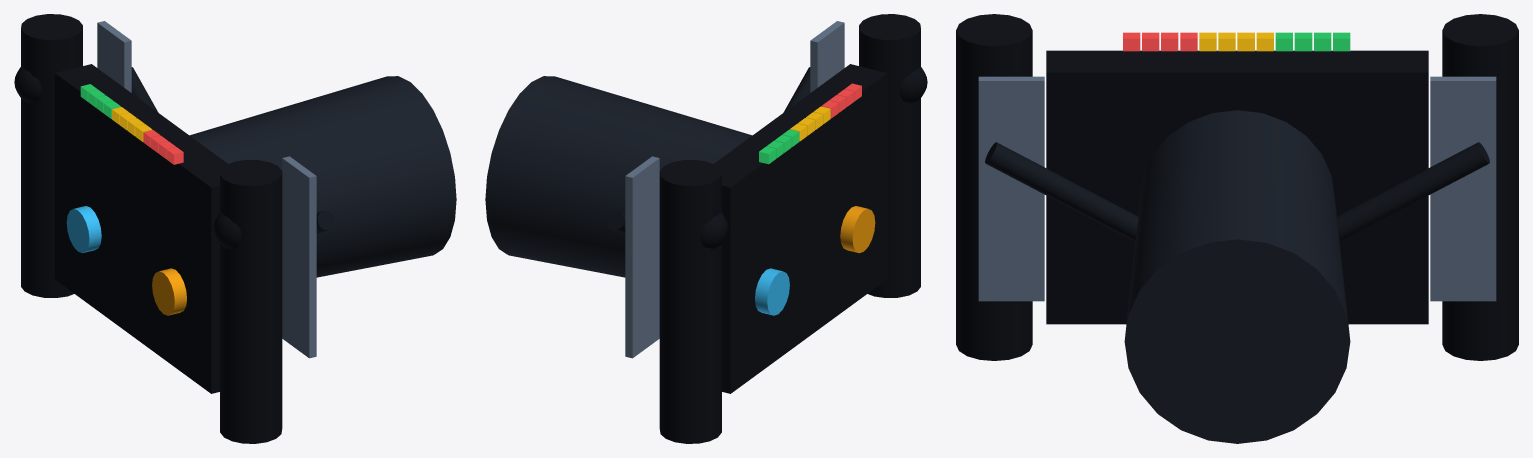
The model's file is steering_wheel_gt3_yoke.glb.
3 views of the same model, side by side, from view 1: azimuth 30°, elevation 25°; view 2: azimuth 150°, elevation 25°; view 3: azimuth 270°, elevation 25° (orthographic). The views are drawn at different scales.
Visible parts, largest first — view 1: WheelRotatingGroup, SteeringColumn; view 2: WheelRotatingGroup, SteeringColumn; view 3: WheelRotatingGroup, SteeringColumn.
Boxes of the visible parts, box(x1,y1,x2,y2) form: WheelRotatingGroup: box(14, 14, 316, 443); SteeringColumn: box(131, 67, 456, 277); WheelRotatingGroup: box(625, 14, 927, 443); SteeringColumn: box(485, 67, 810, 277); WheelRotatingGroup: box(956, 14, 1518, 360); SteeringColumn: box(985, 110, 1489, 443).
Bounding box in the file's own units: 0.238 × 0.2 × 0.324.
